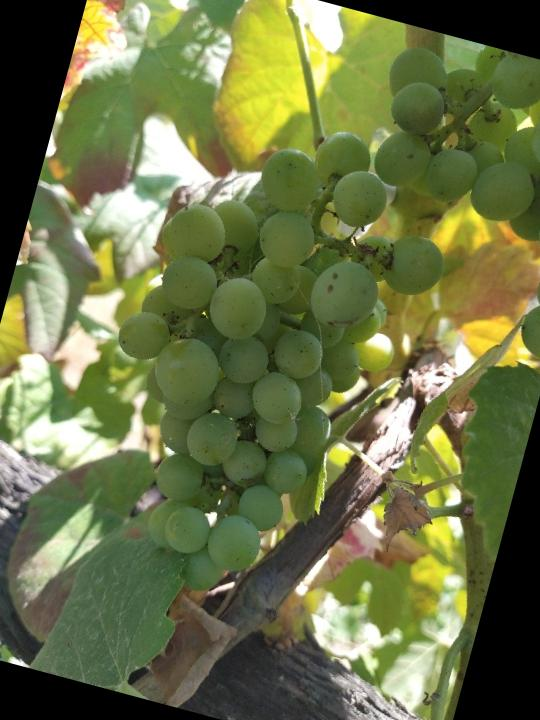grape: (48, 83, 476, 636)
